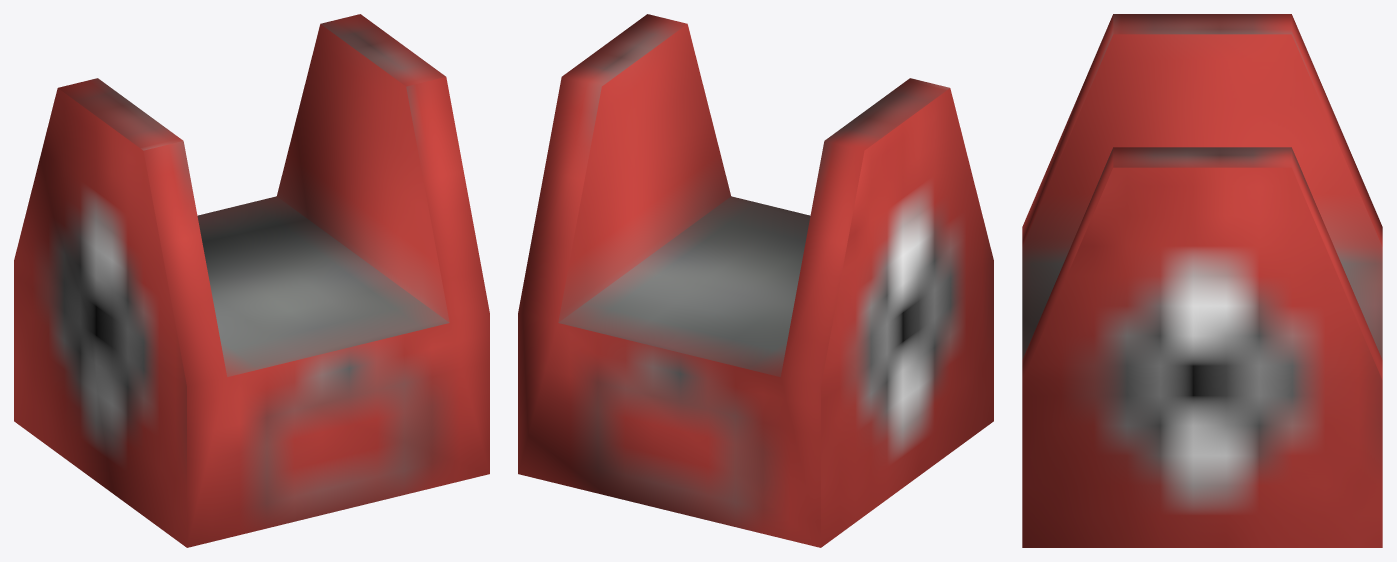
File: BaseGun1.FBX
3 views of the same model, side by side, from view 1: azimuth 30°, elevation 25°; view 2: azimuth 150°, elevation 25°; view 3: azimuth 270°, elevation 25° (orthographic). The views are drawn at different scales.
Parts seen in each view (by area): view 1: Basegun1; view 2: Basegun1; view 3: Basegun1.
Part boxes in pixels (box(x1,y1,x2,y2)): Basegun1: box(14, 14, 489, 547); Basegun1: box(518, 14, 993, 547); Basegun1: box(1022, 14, 1382, 547).
Bounding box in the file's own units: 15.5 × 17.87 × 15.34.
Materials: 1 (1 with a texture image).
